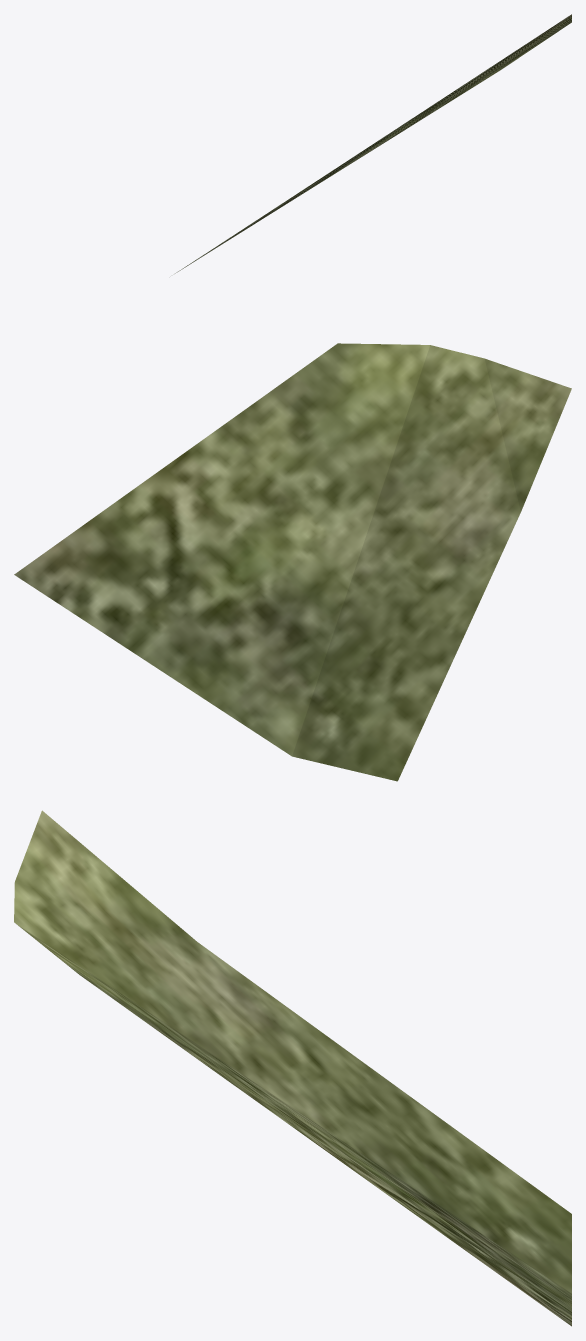
The picture shows the model from 3 angles, top to bottom: view 1: azimuth 30°, elevation 25°; view 2: azimuth 150°, elevation 25°; view 3: azimuth 270°, elevation 25°; orthographic projection. The views are drawn at different scales.
Bounding box in the file's own units: 1.23 × 0.8169 × 1.02.
1 material, 1 textured.
